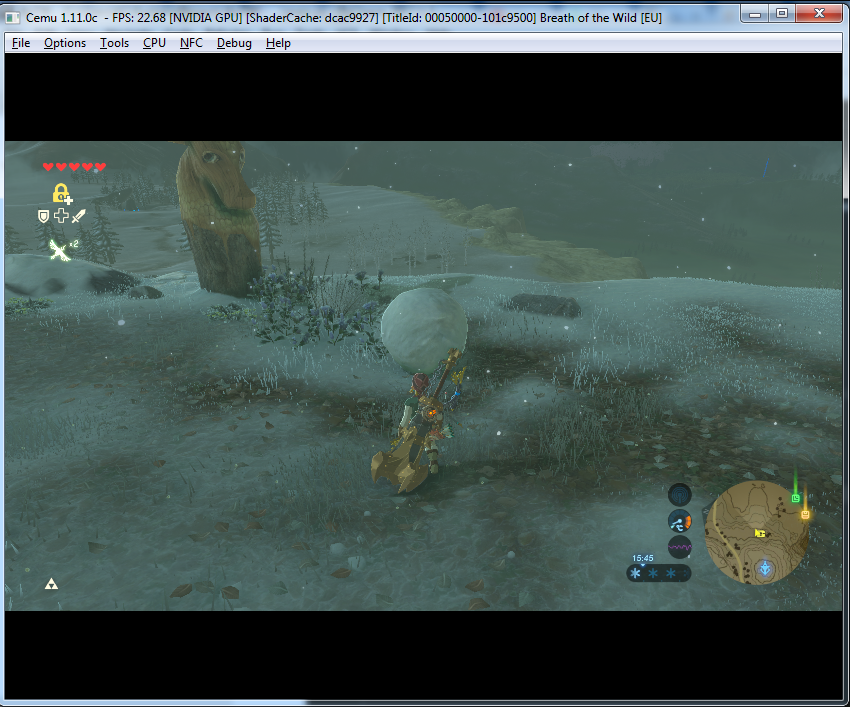link: (173, 136, 278, 309), (367, 339, 478, 493)
snowball: (376, 279, 473, 379)
